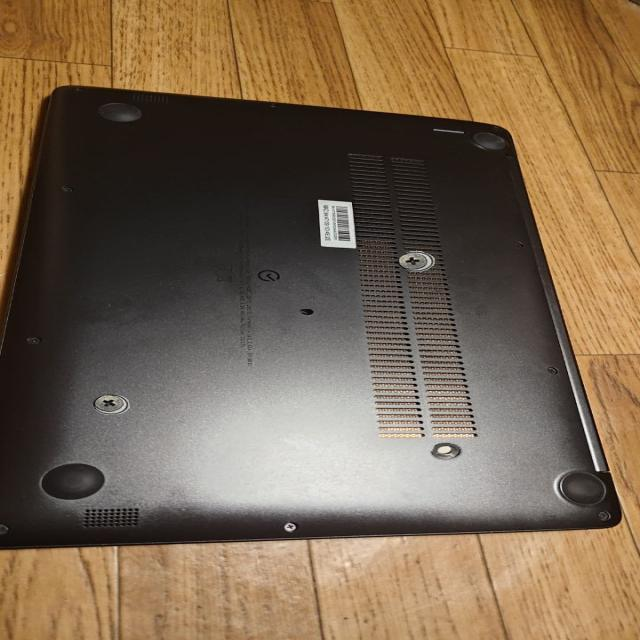lock: (397, 250, 435, 272), (92, 394, 130, 415)
missing_screw: (429, 442, 461, 460)
